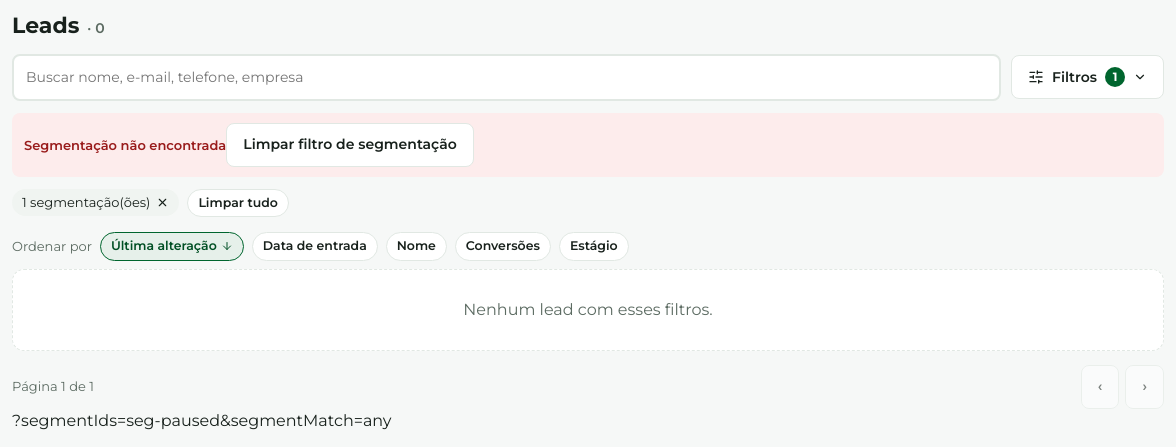
LeadsPage segment filters › shows a paused-segment error and lets the user clear that URL filter
The width and height of the screenshot is (1176, 447).
Expected: the message shows "Segmentação não encontrada", [24,136,226,152]
Click the button "Limpar filtro de segmentação".
click(350, 144)  # box [226,122,474,166]
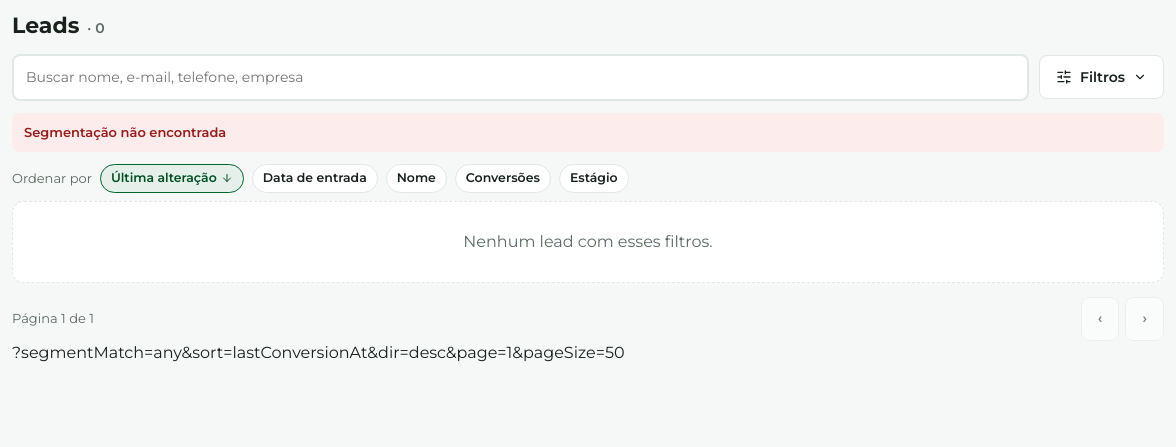
Expected: the text labelled "URL atual" no longer shows "segmentIds="
